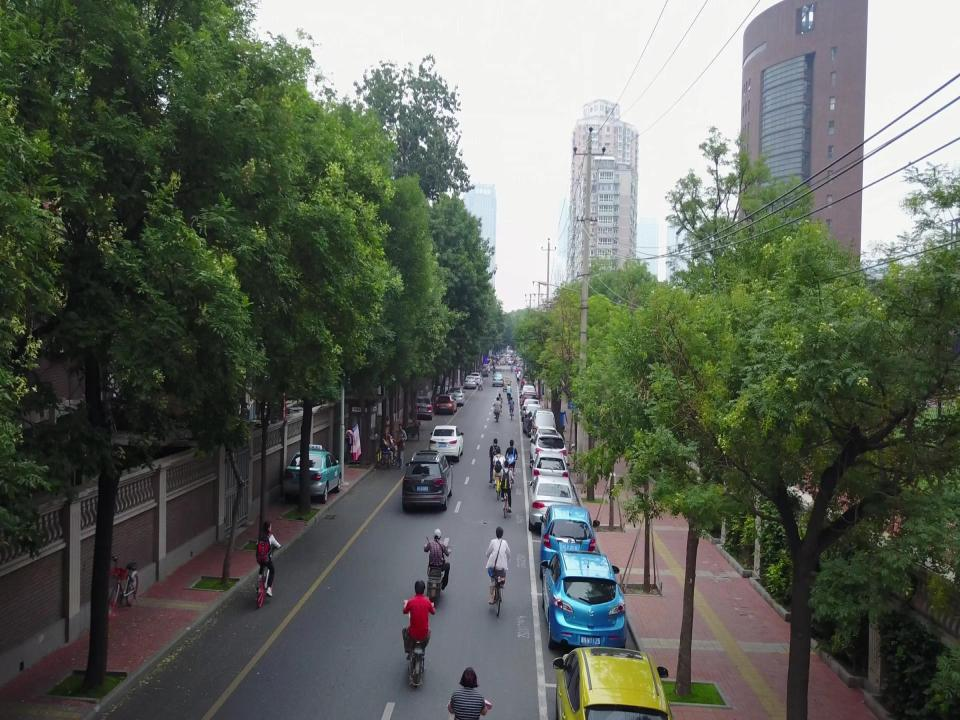car: (551, 646, 673, 720), (542, 550, 624, 654), (540, 505, 600, 580), (283, 444, 341, 500), (402, 451, 452, 511), (528, 474, 576, 530), (530, 452, 572, 488), (428, 426, 464, 460), (532, 436, 567, 468), (529, 411, 557, 448), (533, 427, 560, 456), (410, 397, 432, 422), (518, 383, 540, 407), (521, 398, 543, 421), (520, 394, 542, 417), (434, 395, 456, 415), (523, 406, 543, 427), (446, 388, 464, 406), (491, 373, 505, 388), (463, 375, 477, 386), (470, 371, 480, 382)
